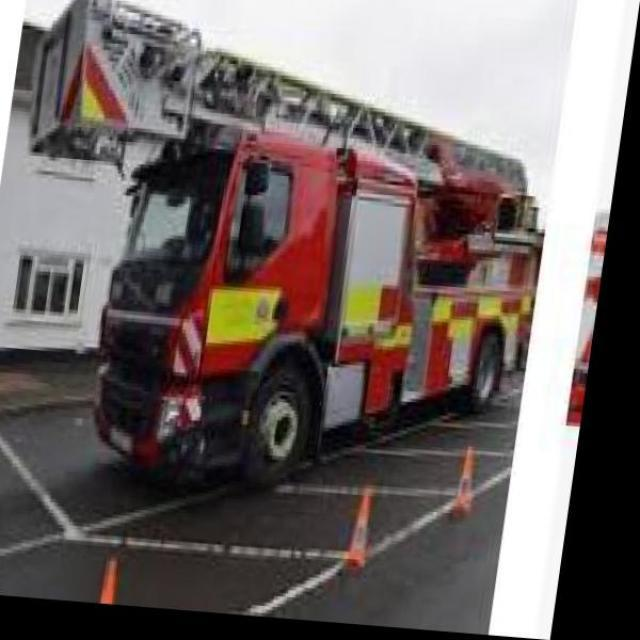emergency: (86, 119, 546, 483)
